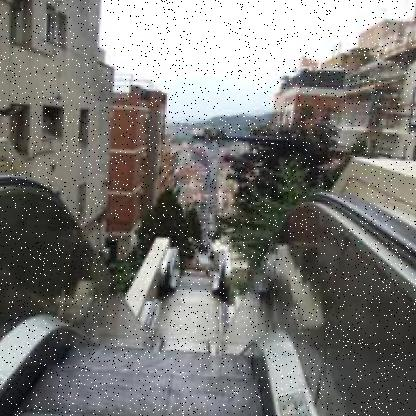stair_down: (68, 288, 268, 409)
